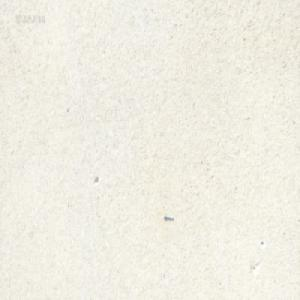Nail: (162, 212, 173, 220)
